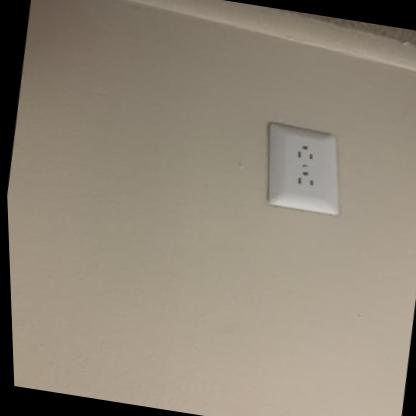OUTLET: (262, 124, 343, 214)
